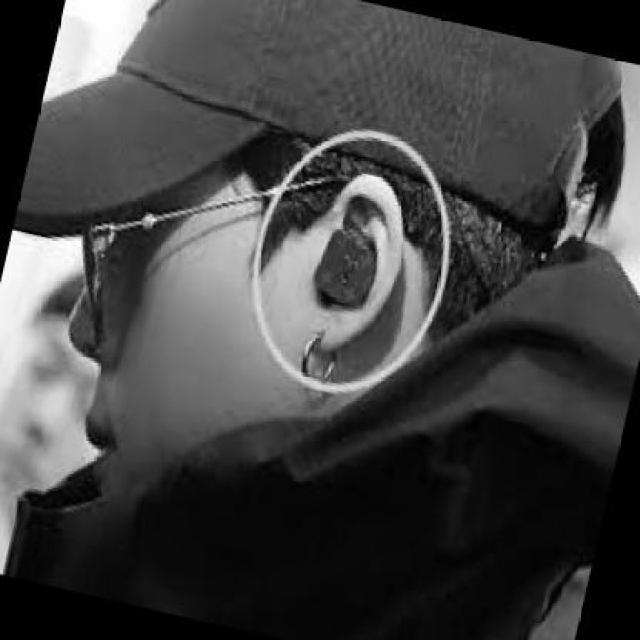earphone: (308, 194, 383, 307)
